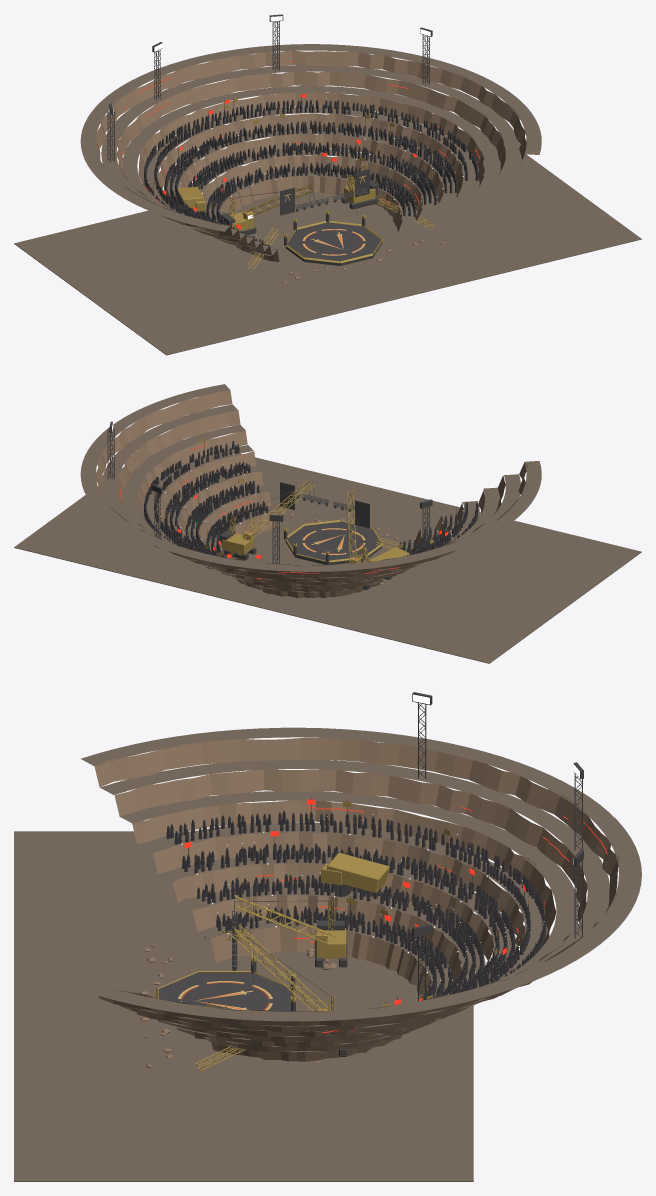
Rendered from ascendant_arena.glb.
The picture shows the model from 3 angles, top to bottom: view 1: azimuth 30°, elevation 25°; view 2: azimuth 150°, elevation 25°; view 3: azimuth 270°, elevation 25°; orthographic projection. The views are drawn at different scales.
Parts seen in each view (by area): view 1: ThePit; view 2: ThePit; view 3: ThePit.
Part boxes in pixels (bbox=[...]): ThePit: bbox=[14, 14, 641, 355]; ThePit: bbox=[14, 384, 641, 663]; ThePit: bbox=[14, 692, 641, 1181].
Bounding box in the file's own units: 90 × 23.8 × 68.3.
